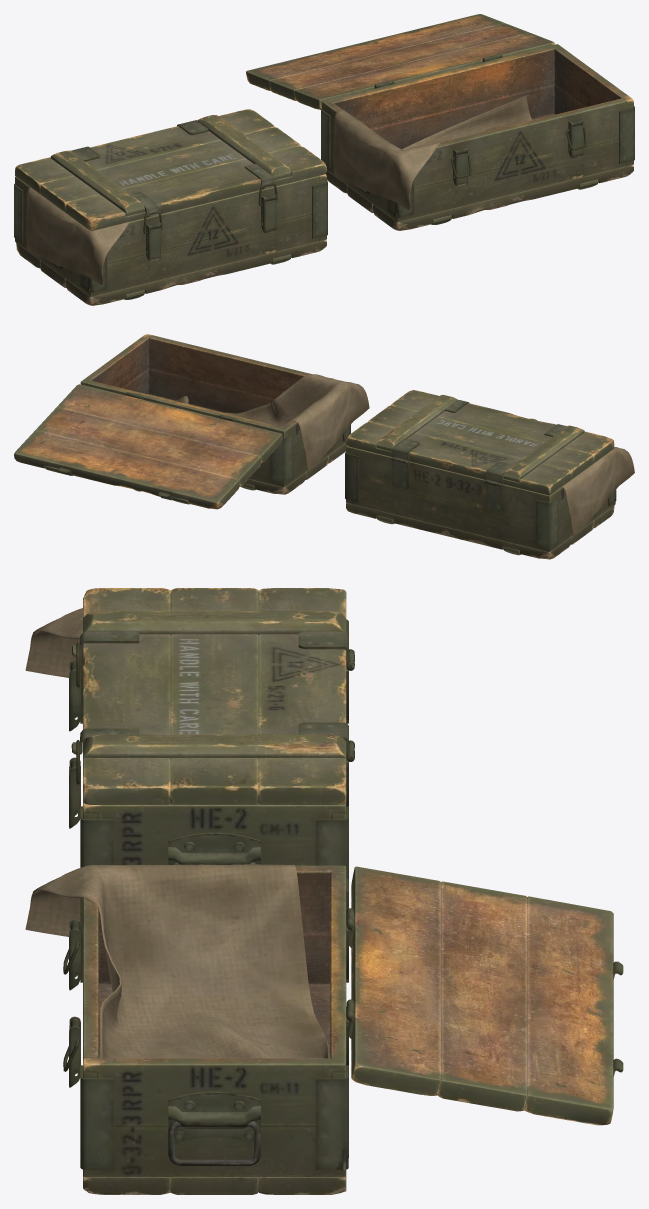
File: old_military_crate.glb
3 views of the same model, one above another, from view 1: azimuth 30°, elevation 25°; view 2: azimuth 150°, elevation 25°; view 3: azimuth 270°, elevation 25° (orthographic). The views are drawn at different scales.
Visible parts, largest first — view 1: old_military_crate_lid_a; view 2: old_military_crate_lid_a; view 3: old_military_crate_lid_a.
Part boxes in pixels (x1,y1,x2,y2): old_military_crate_lid_a: [14, 14, 634, 305]; old_military_crate_lid_a: [14, 334, 634, 559]; old_military_crate_lid_a: [25, 588, 623, 1194].
Size of the model in its own units: 1.82 by 0.3009 by 0.9756.
Materials: 1 (1 with a texture image).
